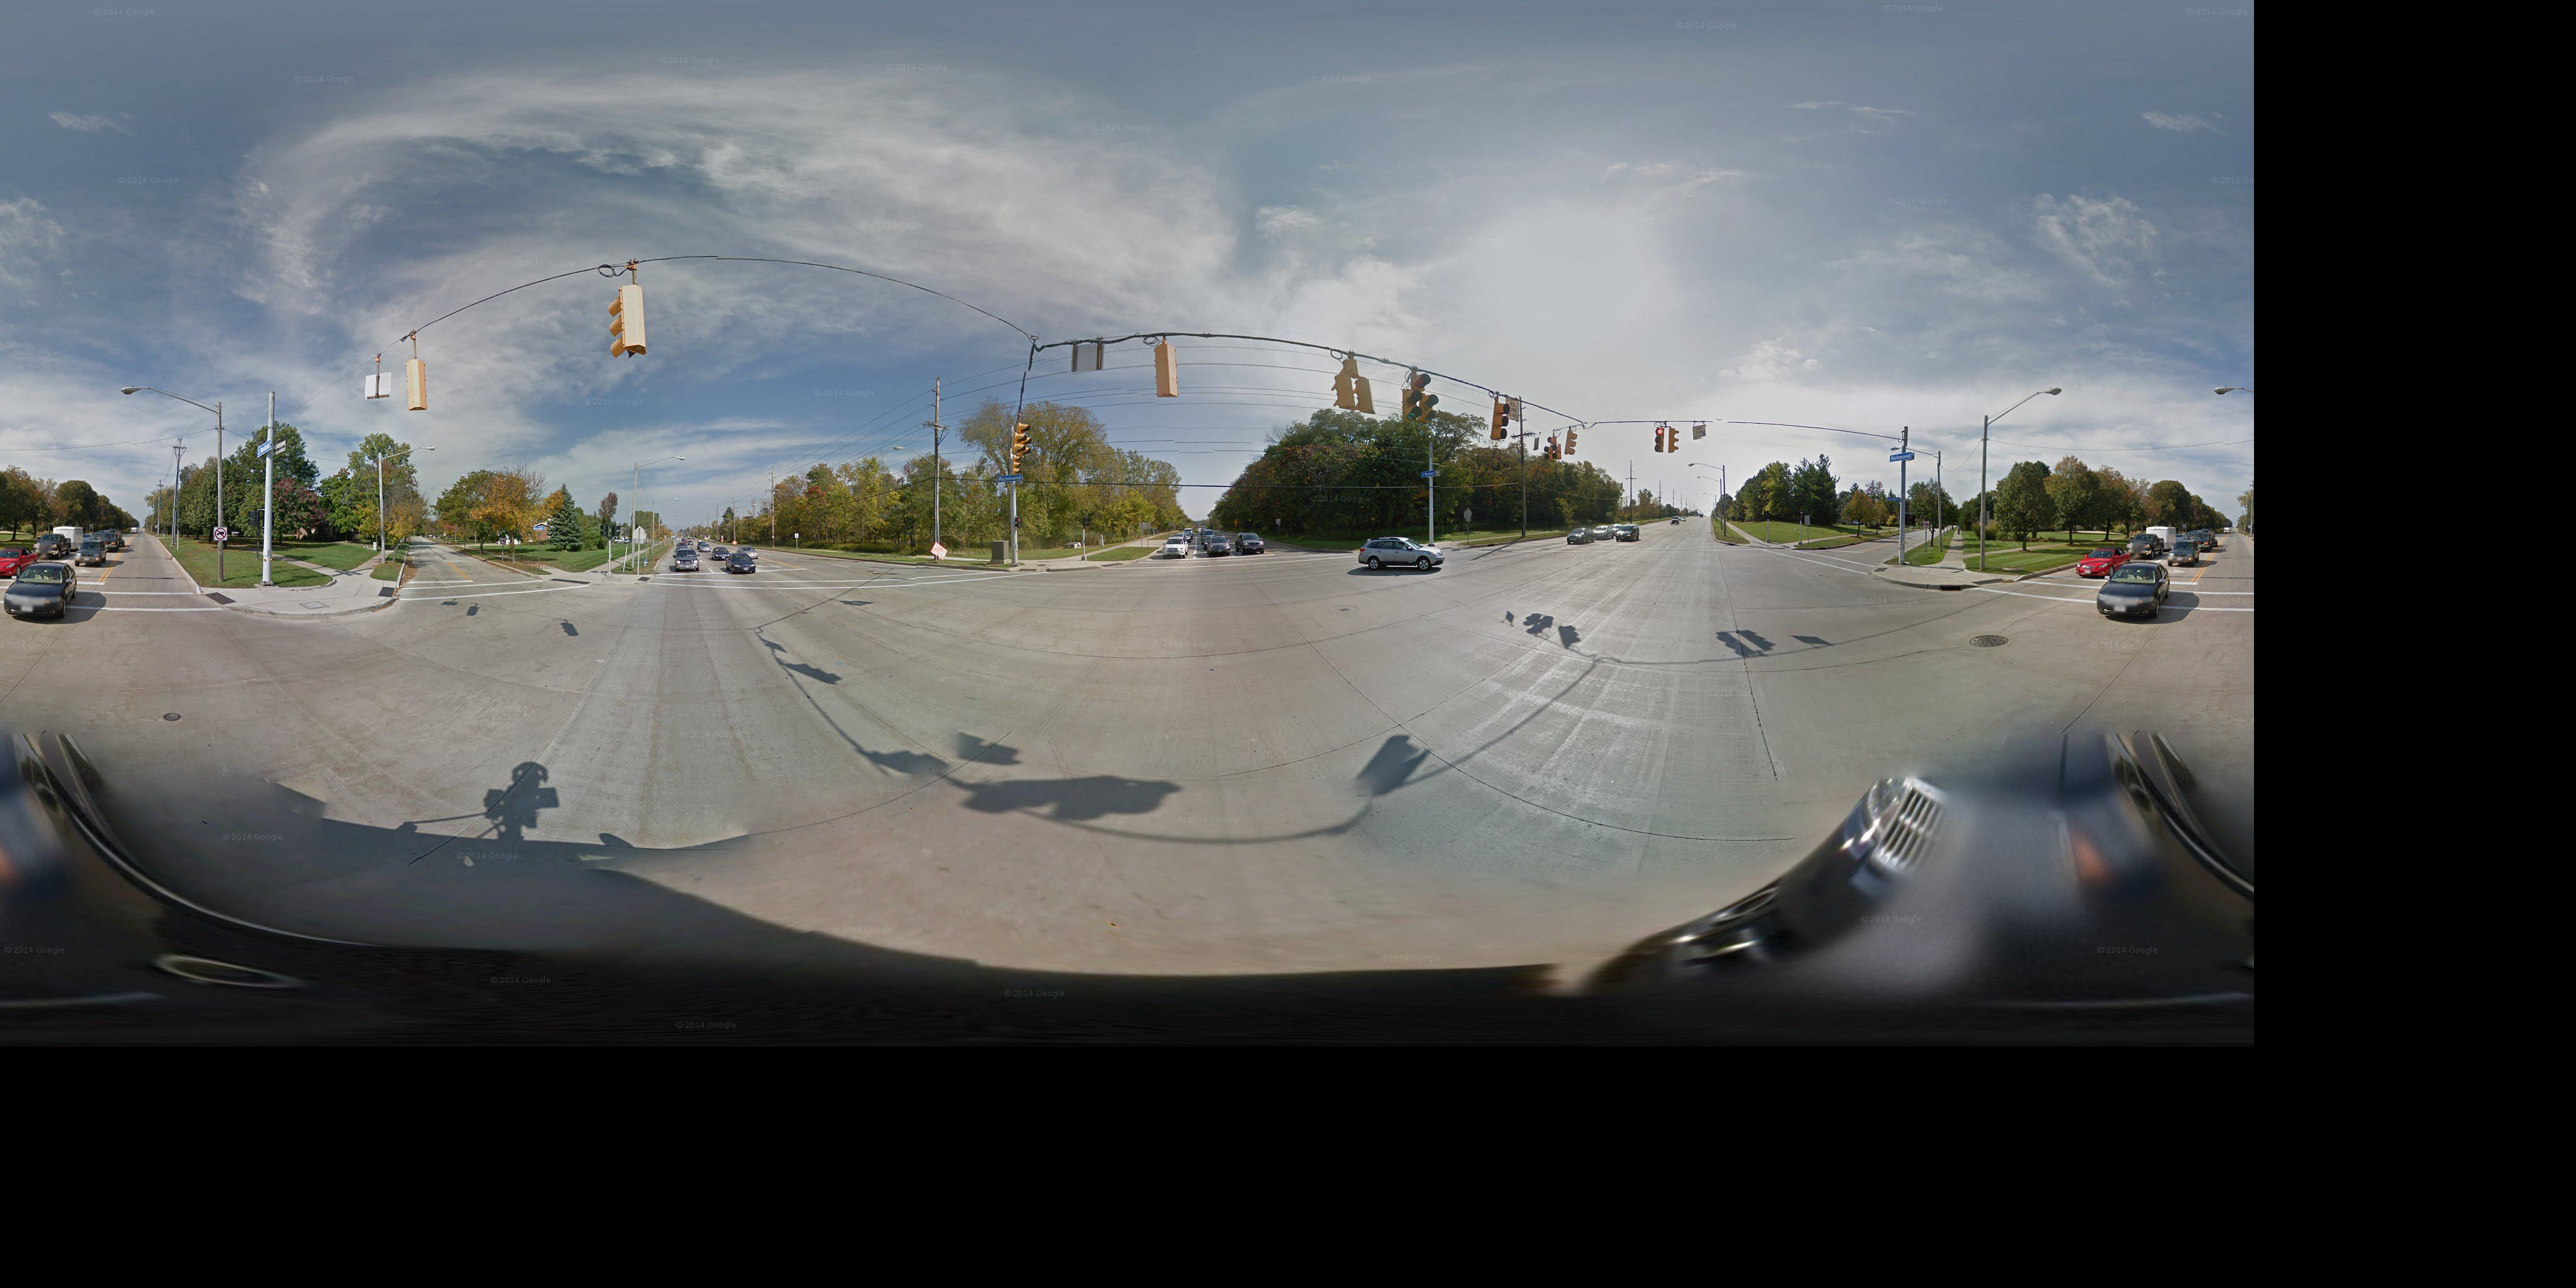Curb Ramp: (194, 582, 245, 614), (1963, 565, 2017, 595), (544, 567, 598, 595), (1009, 557, 1051, 580), (1089, 555, 1130, 573), (1866, 559, 1894, 585), (366, 580, 393, 606), (628, 570, 660, 588), (1740, 537, 1779, 552)
